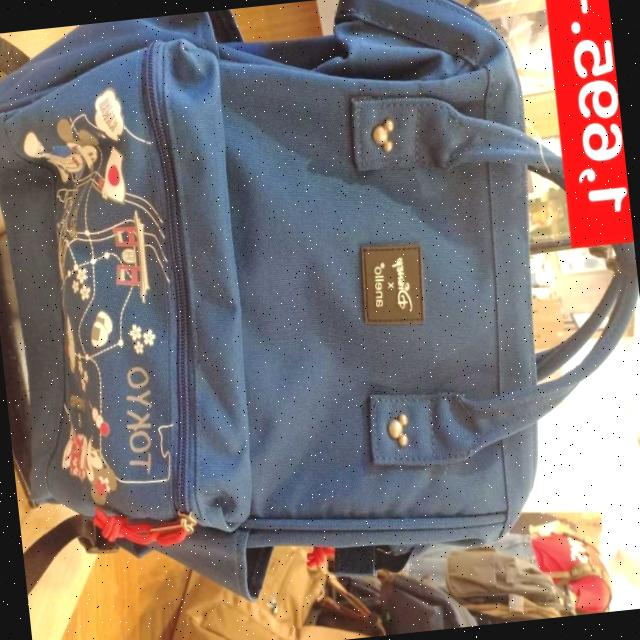Handbag: (0, 0, 608, 620)
